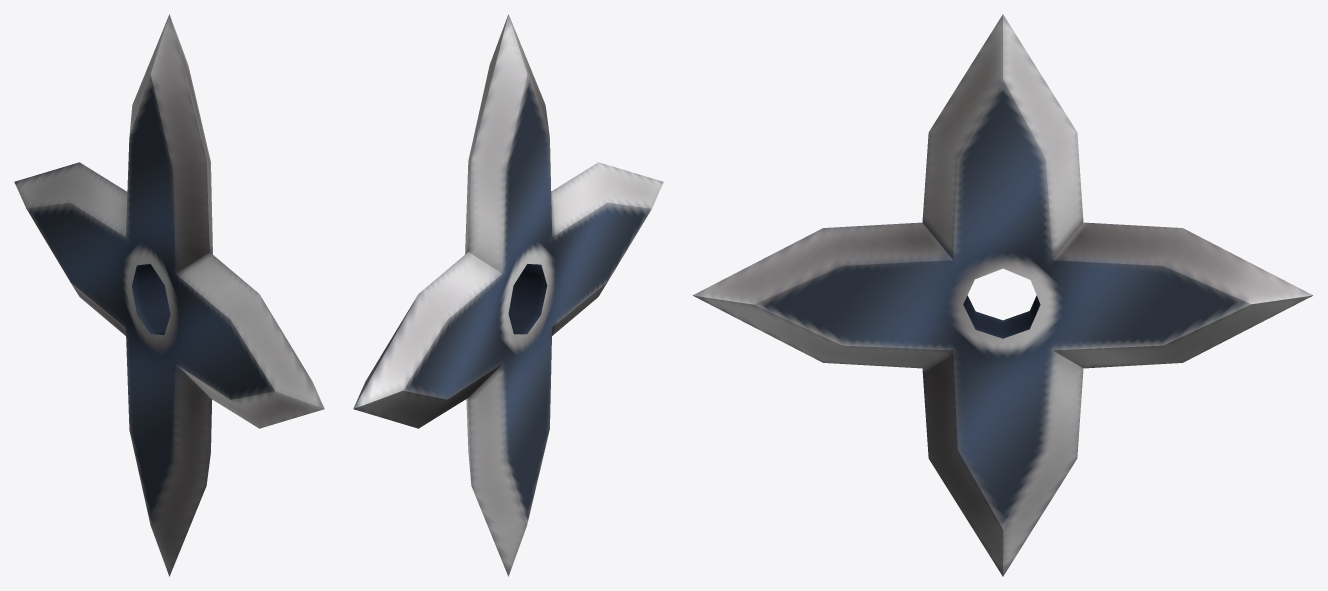
The model's file is dart001.fbx.
The picture shows the model from 3 angles, left to right: view 1: azimuth 30°, elevation 25°; view 2: azimuth 150°, elevation 25°; view 3: azimuth 270°, elevation 25°; orthographic projection.
Visible parts, largest first — view 1: dart001; view 2: dart001; view 3: dart001.
Boxes of the visible parts, box(x1,y1,x2,y2) form: dart001: box(14, 14, 324, 576); dart001: box(353, 14, 663, 576); dart001: box(692, 14, 1313, 576).
Bounding box in the file's own units: 0.0196 × 0.28 × 0.28.
